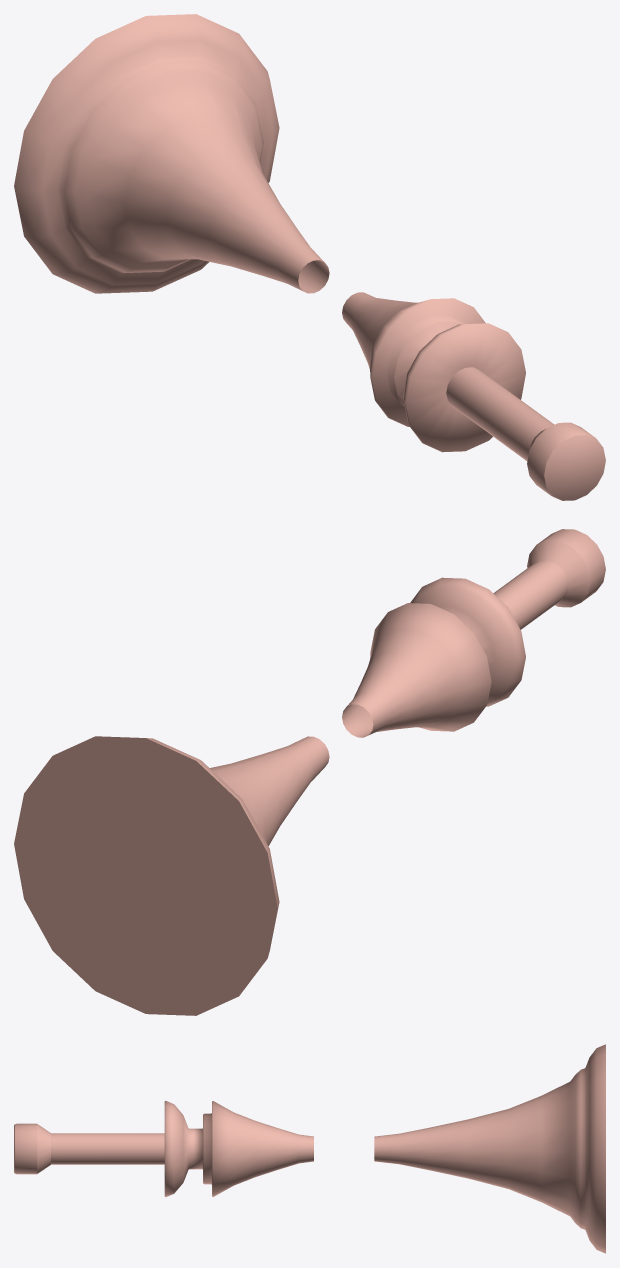
Rendered from MeshDeskLamp_7_0_GeomSubset_0.obj.
3 views of the same model, one above another, from view 1: azimuth 30°, elevation 25°; view 2: azimuth 150°, elevation 25°; view 3: azimuth 270°, elevation 25° (orthographic). The views are drawn at different scales.
Visible parts, largest first — view 1: MeshDeskLamp_7_0_GeomSubset_0; view 2: MeshDeskLamp_7_0_GeomSubset_0; view 3: MeshDeskLamp_7_0_GeomSubset_0.
Part boxes in pixels (box(x1,y1,x2,y2)): MeshDeskLamp_7_0_GeomSubset_0: box(14, 14, 605, 500); MeshDeskLamp_7_0_GeomSubset_0: box(14, 529, 605, 1015); MeshDeskLamp_7_0_GeomSubset_0: box(14, 1044, 605, 1253).
Size of the model in its own units: 0.1232 by 0.1232 by 0.3476.
